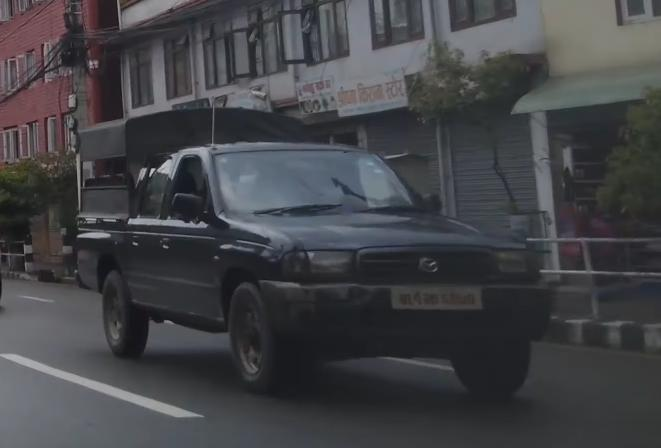police_vehicle: (65, 98, 558, 416)
